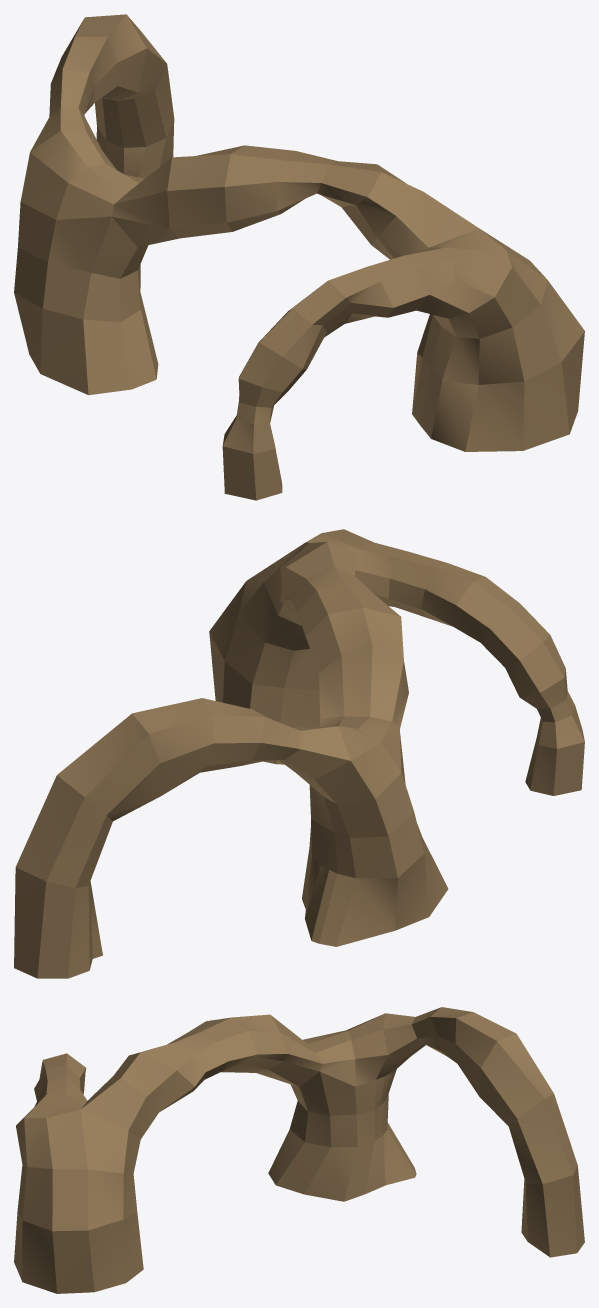
The model's file is tripleArch.fbx.
3 views of the same model, one above another, from view 1: azimuth 30°, elevation 25°; view 2: azimuth 150°, elevation 25°; view 3: azimuth 270°, elevation 25° (orthographic). The views are drawn at different scales.
Visible parts, largest first — view 1: tripleArch:RetopoGroup1; view 2: tripleArch:RetopoGroup1; view 3: tripleArch:RetopoGroup1.
Part boxes in pixels (x1=…): tripleArch:RetopoGroup1: x1=14, y1=14, x2=584, y2=500; tripleArch:RetopoGroup1: x1=14, y1=529, x2=584, y2=978; tripleArch:RetopoGroup1: x1=14, y1=1007, x2=584, y2=1293.
Size of the model in its own units: 32.07 by 20.24 by 53.74.
